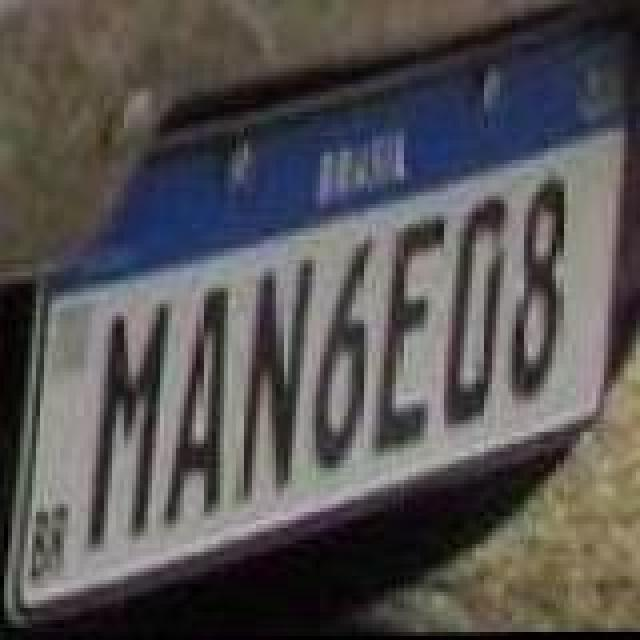6: (312, 240, 376, 472)
8: (504, 176, 568, 404)
A: (162, 286, 230, 526)
D: (444, 196, 508, 424)
E: (372, 220, 444, 452)
M: (86, 298, 170, 546)
N: (238, 256, 314, 504)
